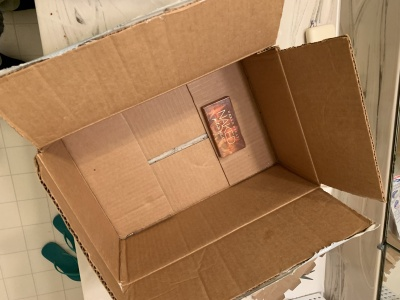innerbox: (79, 88, 311, 221)
outerbox: (37, 28, 382, 300)
product: (201, 96, 247, 157)
